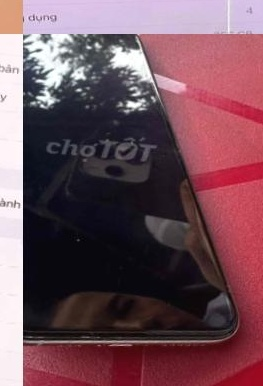scratch: (76, 332, 99, 343)
screen_defect: (144, 0, 263, 34)
